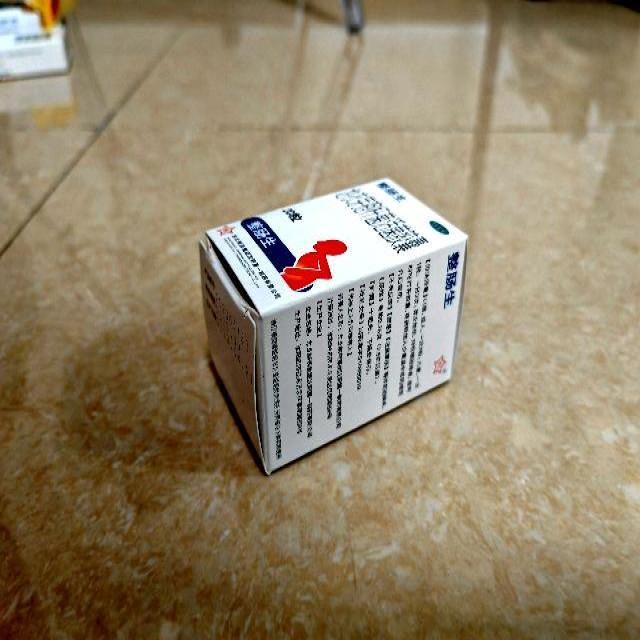box: (197, 178, 469, 478)
